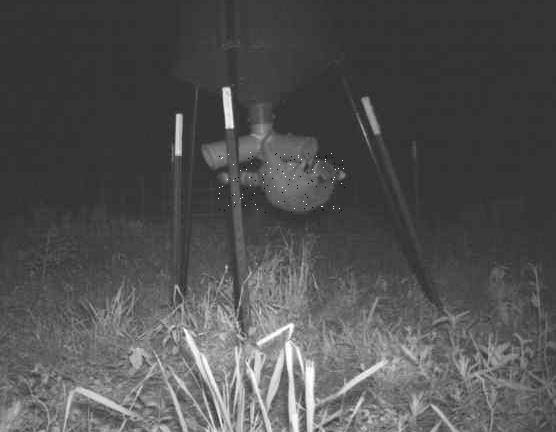Raccoon: (218, 153, 348, 214)
